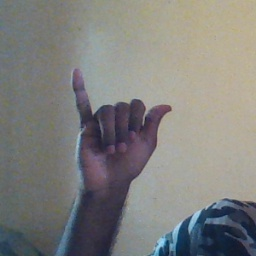J: (66, 66, 175, 189)
